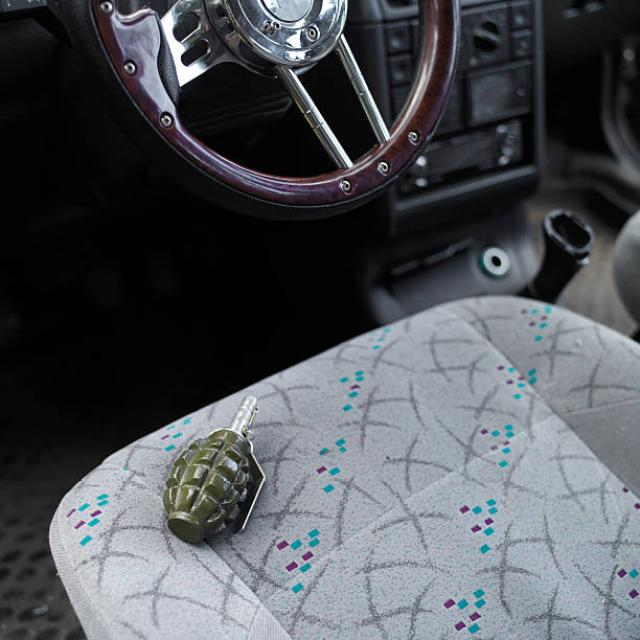grenade: (169, 397, 267, 546)
